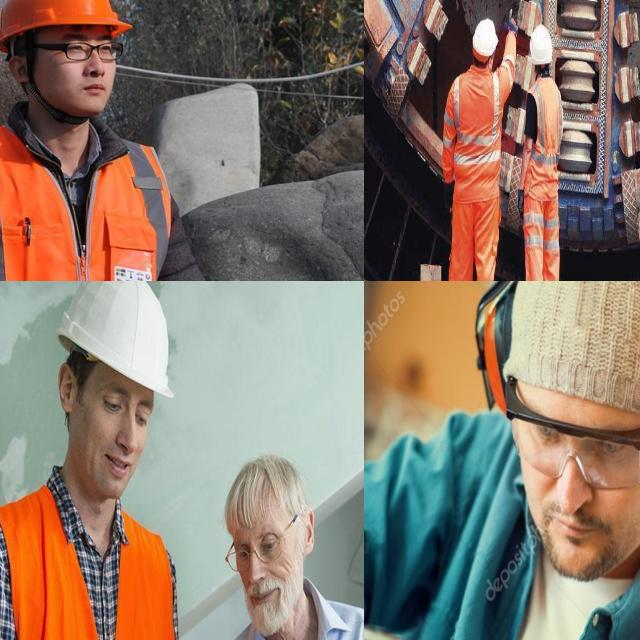Ear-protection: (471, 281, 640, 581)
No_Ear-Protection: (56, 356, 77, 421), (4, 50, 33, 88), (300, 503, 318, 558), (49, 353, 52, 358)
face_nomask: (80, 366, 156, 506), (225, 526, 305, 637), (28, 24, 126, 110)
glasses: (223, 532, 288, 580), (57, 35, 128, 68)
hand_glove: (503, 3, 520, 40), (515, 185, 529, 220)
head_helmet: (50, 281, 181, 397), (4, 0, 140, 34), (471, 20, 496, 57), (528, 27, 552, 65)
head_nohelmet: (226, 459, 310, 519)
person: (0, 0, 261, 281), (0, 281, 196, 640), (195, 453, 364, 640), (445, 19, 501, 281), (521, 29, 563, 281)
vest: (0, 489, 180, 640), (0, 127, 162, 281), (452, 78, 500, 194), (530, 78, 560, 186)
